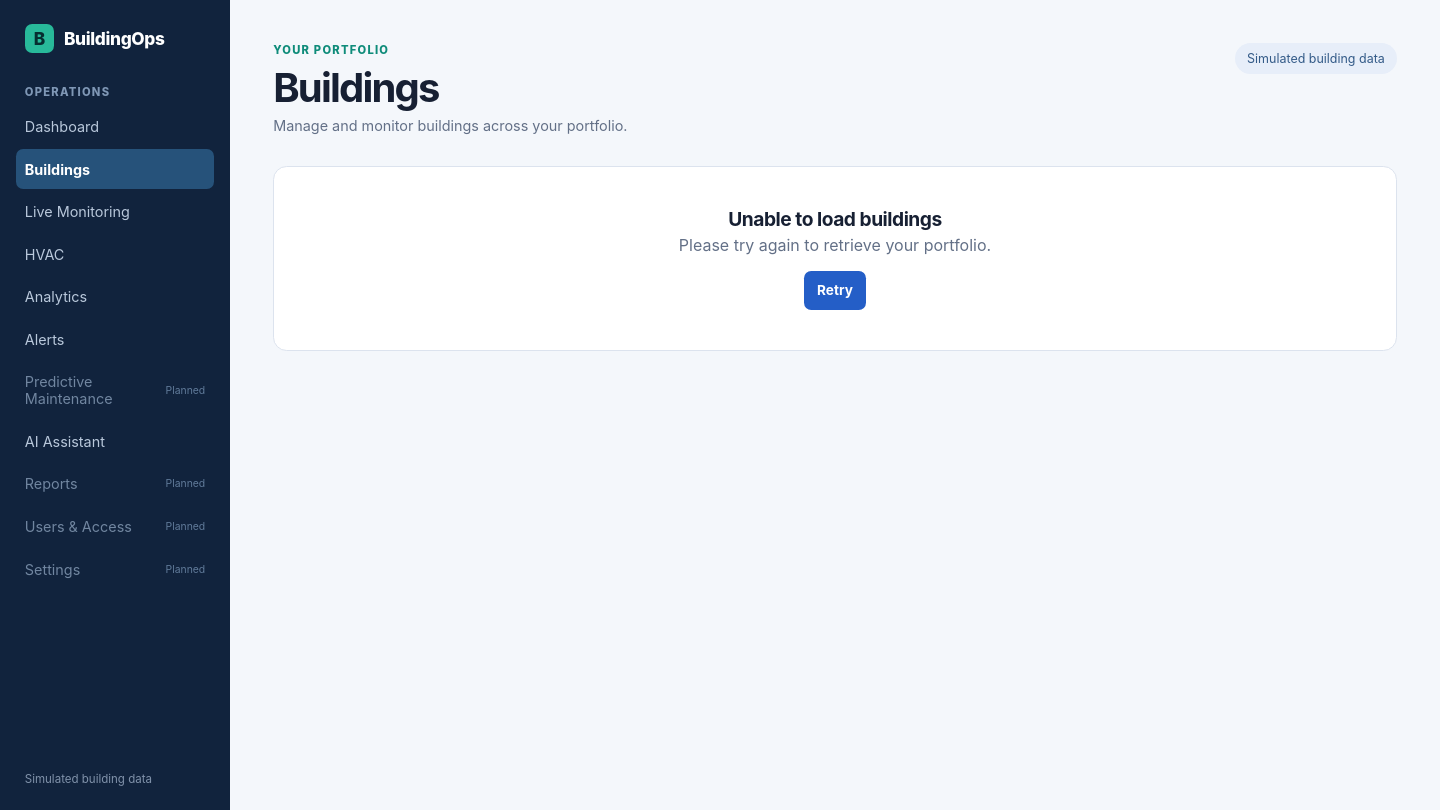
Scenario: Buildings experience › shows a safe error and successfully retries
Expected: the message shows "Unable to load buildings", [728, 207, 942, 231]
Click the button "Retry" at (835, 290), box [804, 271, 866, 310]
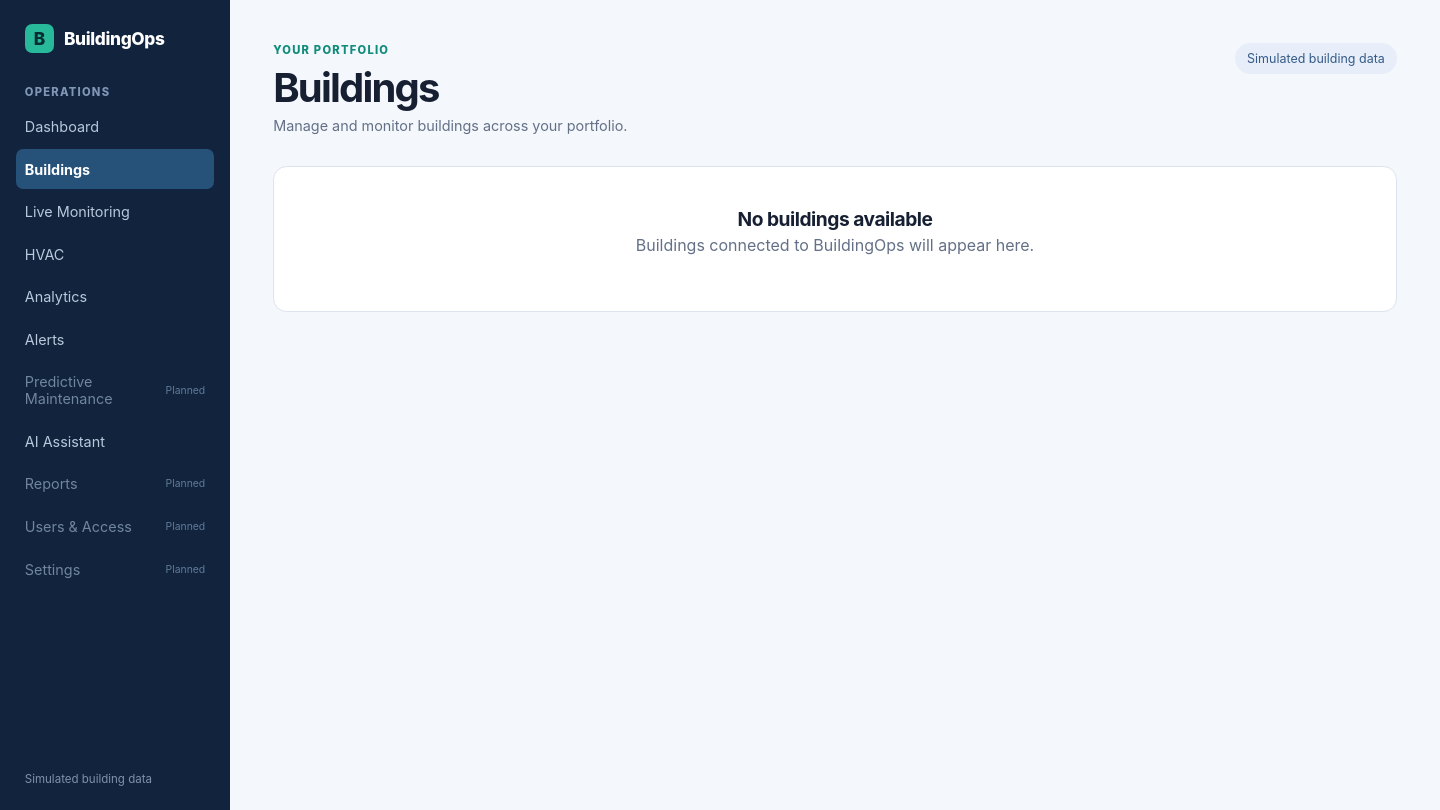
Now the heading "No buildings available" is shown, box [738, 207, 932, 231]
